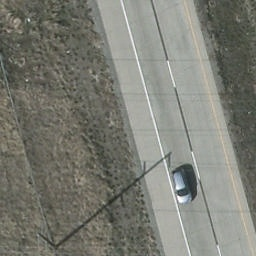car: (169, 166, 193, 205)
